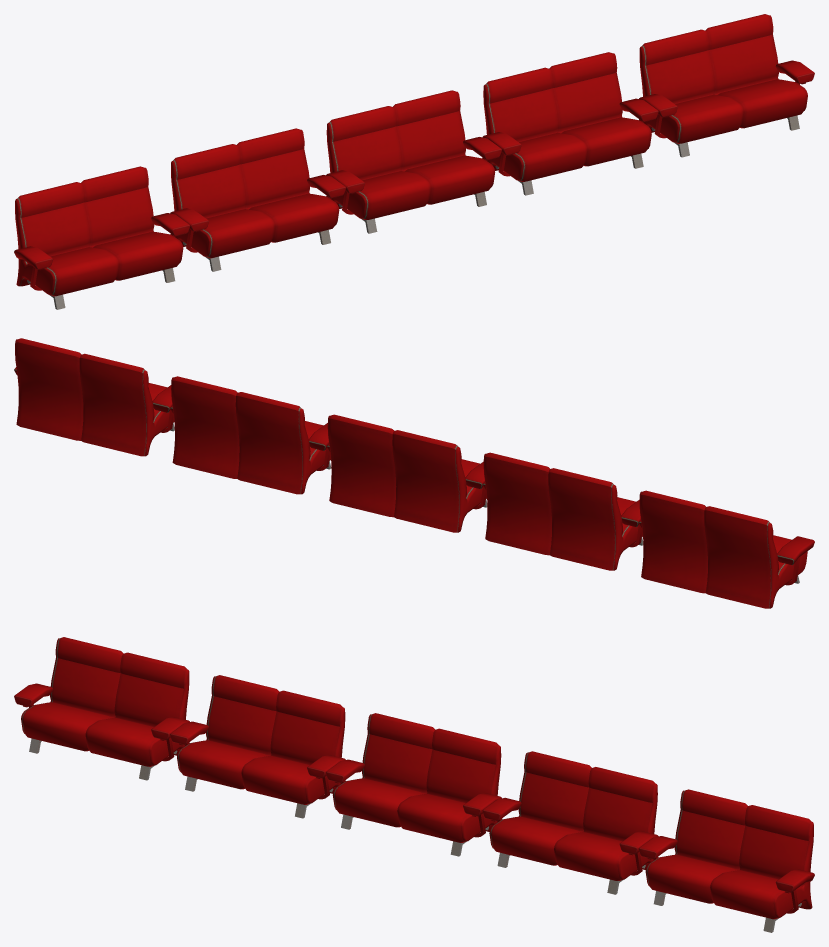
Rendered from CinemaSofa01a.FBX.
3 renders of one model, top to bottom at view 1: azimuth 30°, elevation 25°; view 2: azimuth 150°, elevation 25°; view 3: azimuth 330°, elevation 25°, orthographic.
Visible parts, largest first — view 1: CinemaSofa01a; view 2: CinemaSofa01a; view 3: CinemaSofa01a.
Boxes of the visible parts, left/top/right/bottom form: CinemaSofa01a: left=14, top=14, right=814, bottom=309; CinemaSofa01a: left=14, top=338, right=814, bottom=608; CinemaSofa01a: left=14, top=637, right=814, bottom=932.
Bounding box in the file's own units: 1312 × 142 × 120.
